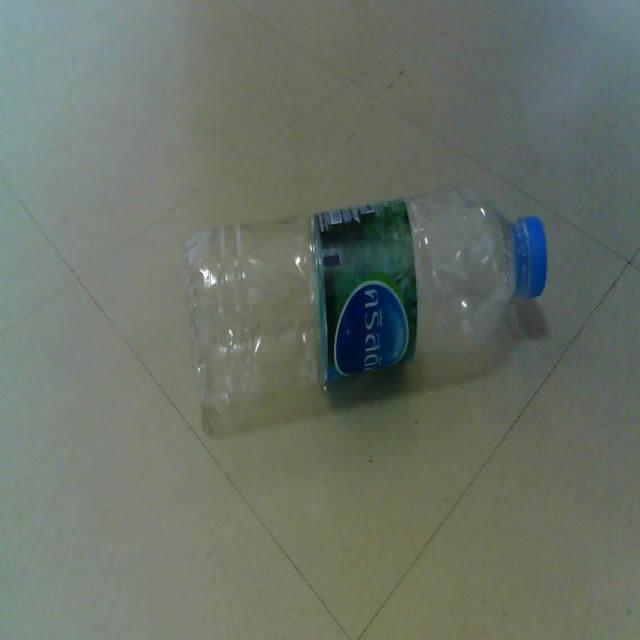empty: (185, 189, 547, 432)
